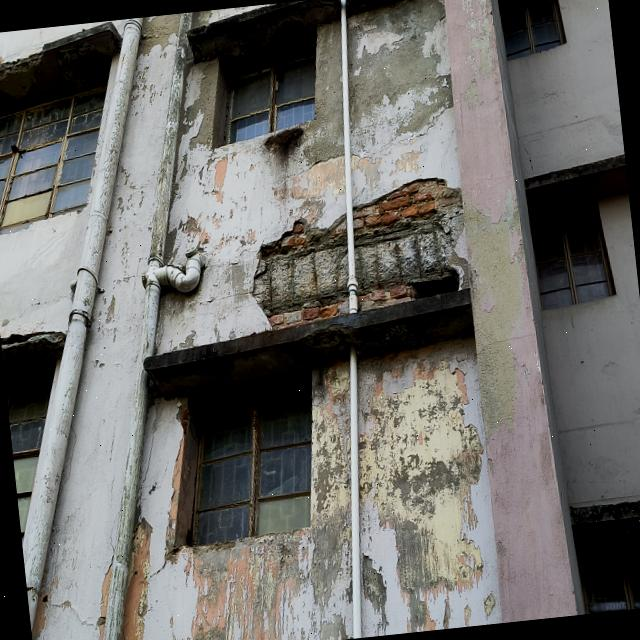Paint Peeling: (358, 338, 501, 637), (166, 528, 332, 640)
Scaling: (348, 0, 454, 163), (172, 58, 227, 204), (301, 27, 342, 168), (165, 216, 211, 258), (149, 13, 180, 48)
Spalling: (354, 178, 463, 309), (0, 20, 121, 116), (254, 215, 348, 317)
